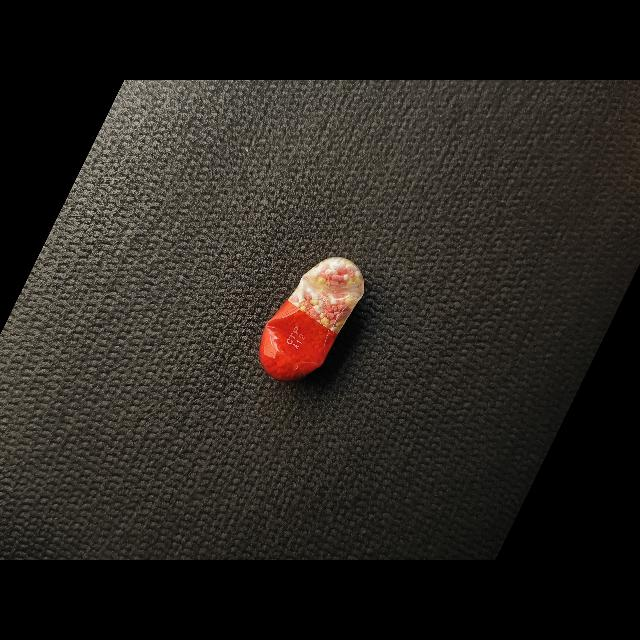Defective Capsule: (259, 257, 364, 382)
